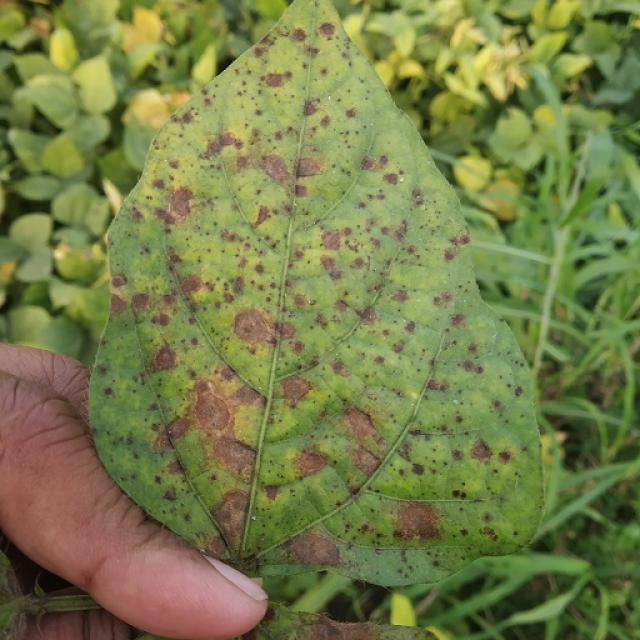Anthracnose: (162, 186, 254, 393), (91, 406, 217, 554), (282, 193, 389, 334), (369, 414, 521, 503), (334, 307, 455, 408), (205, 300, 319, 394), (247, 465, 348, 549), (307, 541, 457, 586), (292, 126, 365, 217), (223, 140, 295, 231), (258, 369, 347, 442), (222, 307, 315, 361), (293, 19, 354, 99), (280, 269, 348, 332), (95, 394, 156, 452)
Blackgram: (89, 0, 541, 584)
